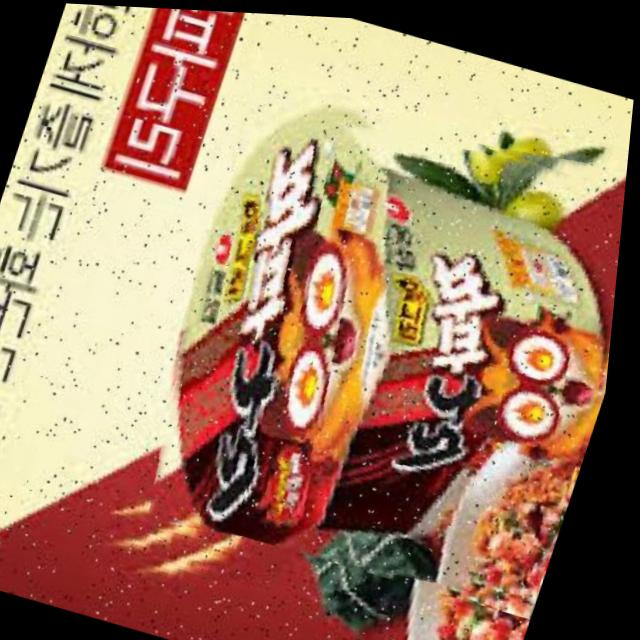Miscellaneous: (120, 64, 636, 614)
